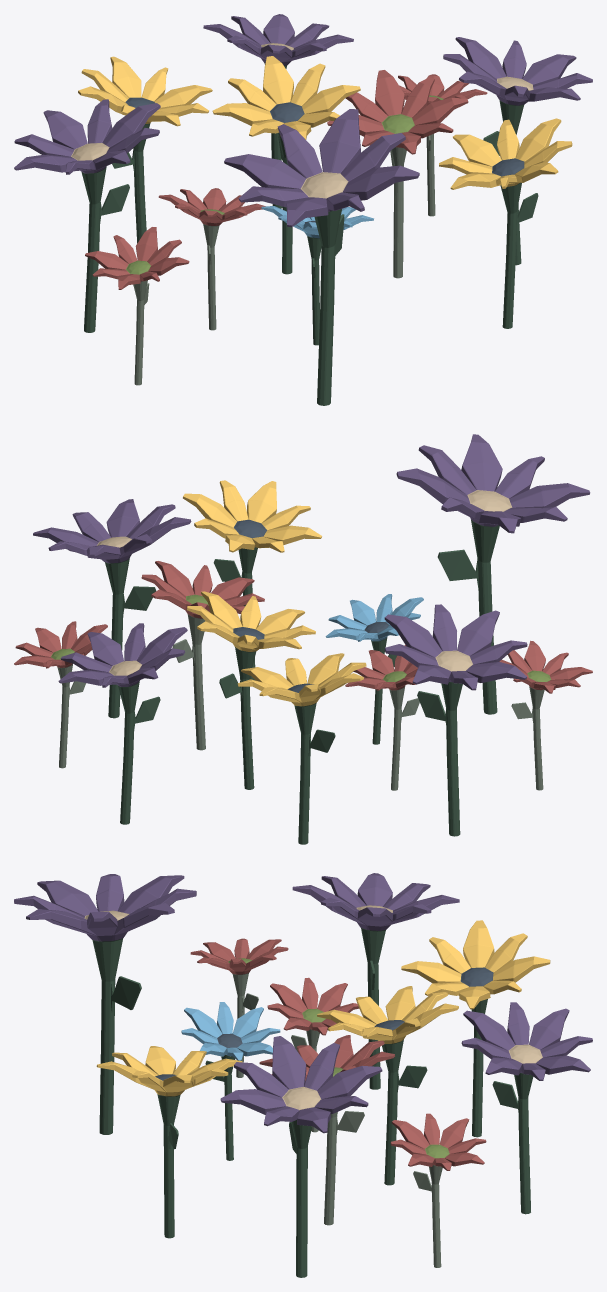
Rendered from flower_2_garden.fbx.
3 renders of one model, top to bottom at view 1: azimuth 30°, elevation 25°; view 2: azimuth 150°, elevation 25°; view 3: azimuth 270°, elevation 25°, orthographic. The views are drawn at different scales.
Visible parts, largest first — view 1: flower_2_garden, Cylinder.018, Cylinder.014, Cylinder.015, Cylinder.017, Cylinder.013, Cylinder.019, Cylinder.021, Cylinder.016; view 2: flower_2_garden, Cylinder.014, Cylinder.018, Cylinder.015, Cylinder.017, Cylinder.021, Cylinder.013, Cylinder.019, Cylinder.016; view 3: flower_2_garden, Cylinder.014, Cylinder.018, Cylinder.015, Cylinder.017, Cylinder.021, Cylinder.013, Cylinder.019, Cylinder.016.
Boxes of the visible parts, box(x1,y1,x2,y2) form: flower_2_garden: box(14, 14, 592, 227); Cylinder.018: box(78, 56, 572, 189); Cylinder.014: box(81, 63, 538, 405); Cylinder.015: box(85, 70, 487, 289); Cylinder.017: box(133, 134, 435, 385); Cylinder.013: box(71, 43, 533, 198); Cylinder.019: box(125, 97, 524, 223); Cylinder.021: box(261, 206, 373, 238); Cylinder.016: box(126, 95, 443, 274); flower_2_garden: box(33, 434, 590, 690); Cylinder.014: box(105, 519, 499, 844); Cylinder.018: box(183, 480, 366, 706); Cylinder.015: box(14, 561, 592, 693); Cylinder.017: box(57, 614, 544, 790); Cylinder.021: box(325, 594, 423, 641); Cylinder.013: box(97, 490, 512, 675); Cylinder.019: box(233, 519, 388, 692); Cylinder.016: box(51, 594, 551, 682); flower_2_garden: box(14, 873, 592, 1133); Cylinder.014: box(92, 927, 533, 1277); Cylinder.018: box(96, 920, 550, 1096); Cylinder.015: box(190, 938, 486, 1170); Cylinder.017: box(232, 973, 442, 1267); Cylinder.021: box(181, 1002, 280, 1060); Cylinder.013: box(84, 905, 542, 1110); Cylinder.019: box(155, 967, 493, 1080); Cylinder.016: box(228, 958, 449, 1158).
Bounding box in the file's own units: 99.04 × 45.61 × 93.73.
